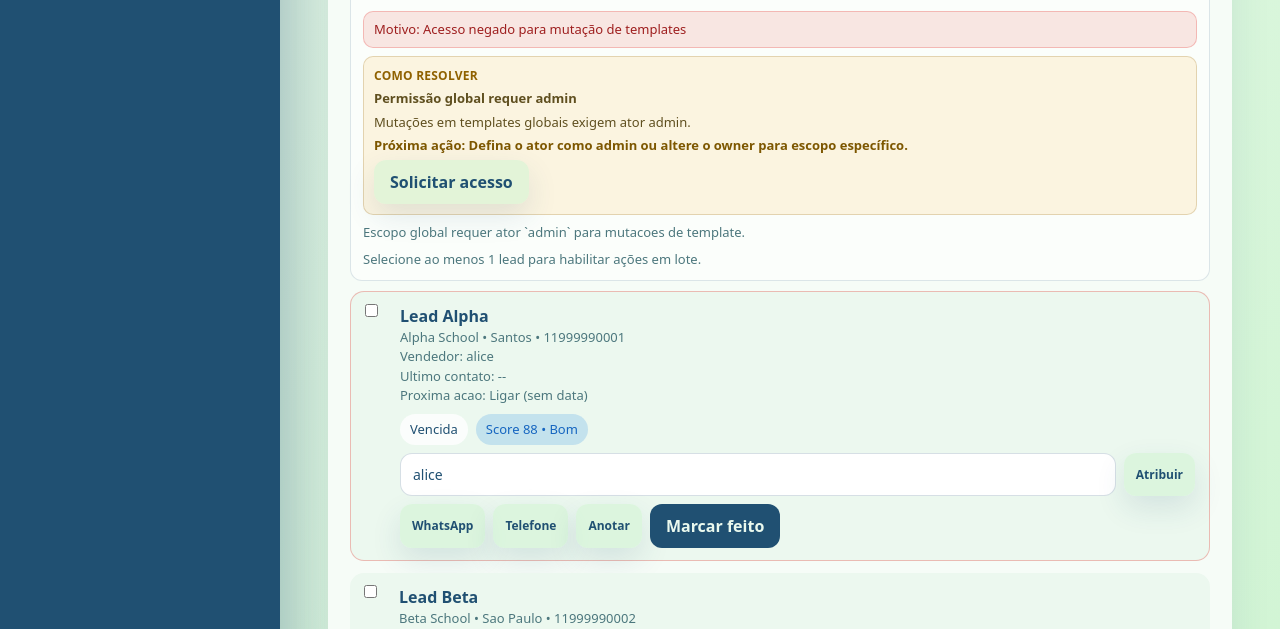
Test: SDR page › sends batch schedule action request with next action fields
The width and height of the screenshot is (1280, 629).
(page scrolled)
Expected: the text "Lead Alpha" is shown, [400,304,489,326]
Expected: the text "Lead Beta" is shown, [399,586,478,608]
Click the checkbox named "Selecionar lead 1".
click(372, 310)  # box [365,304,378,316]
(page scrolled)
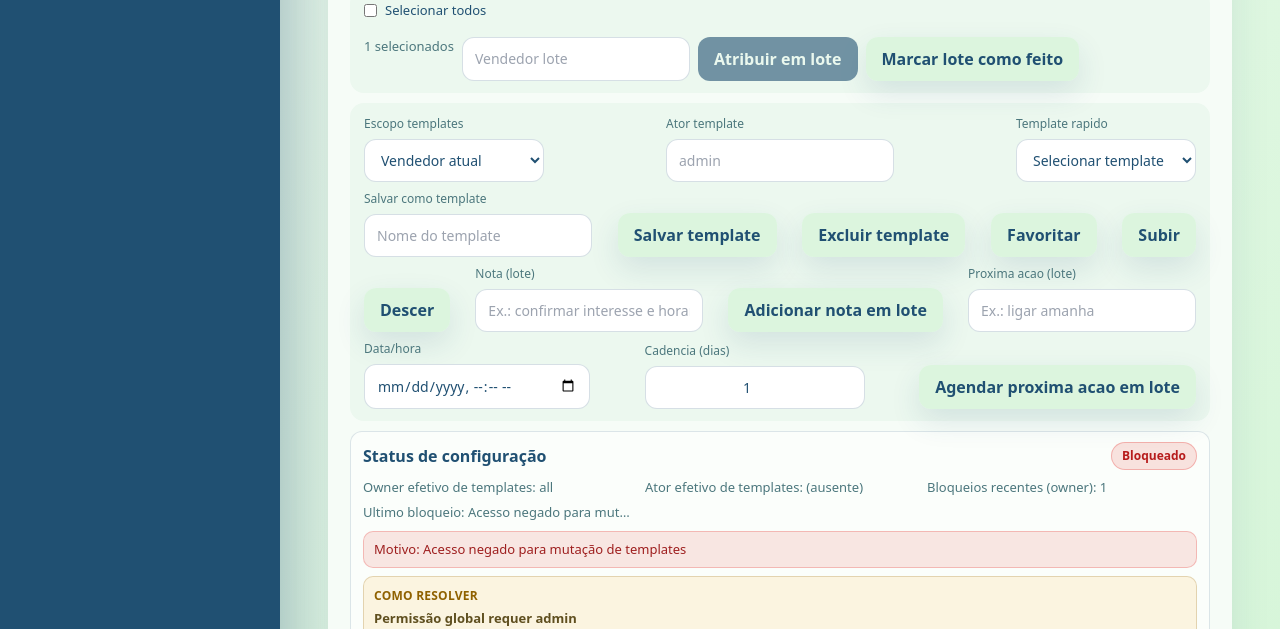
Type "Enviar proposta personalizada" into the field with placeholder "Ex.: ligar amanha".
click(1082, 310); type("Enviar proposta personalizada")  # box [968,288,1196,332]
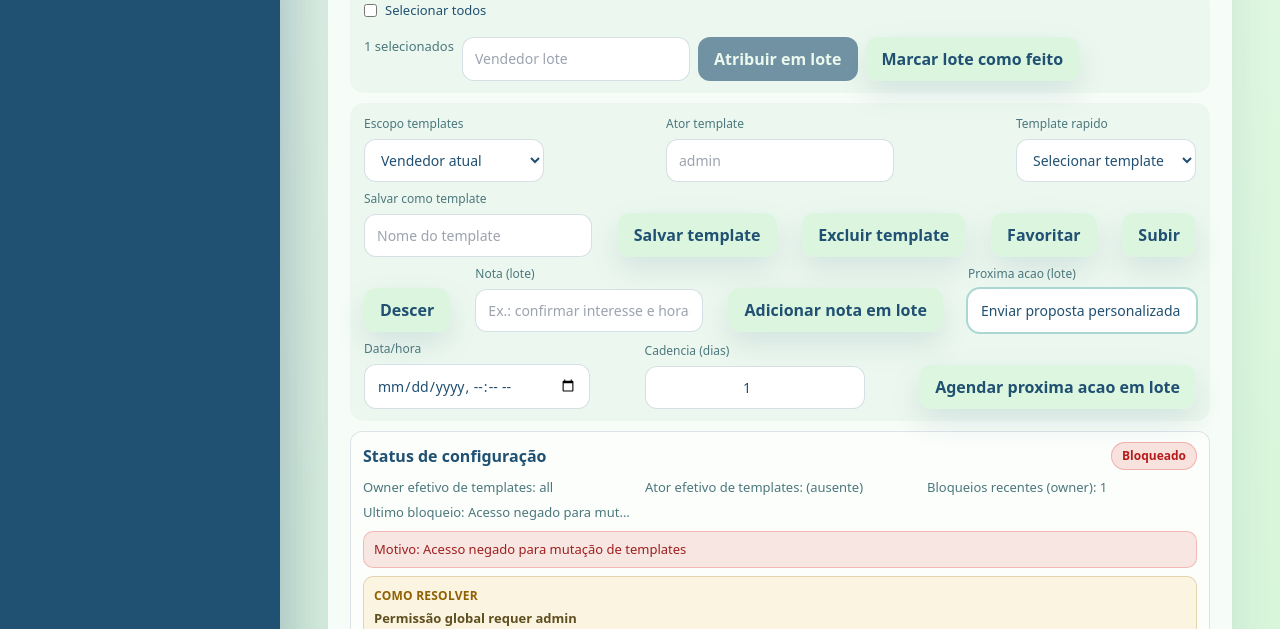
Type "2026-03-03T10:30" into the field labelled "Data/hora".
click(477, 386); type("2026-03-03T10:30")  # box [364,364,590,408]
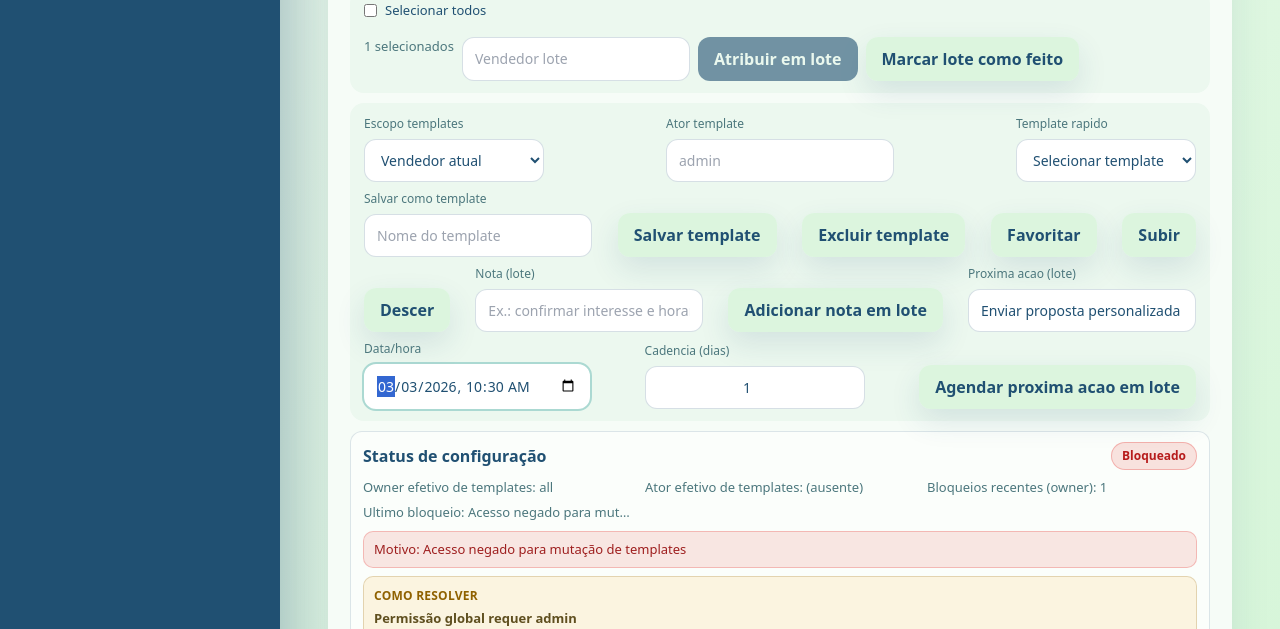
Replace the text in the number field labelled "Cadencia (dias)" with "3" at x=755, y=387, box [645,366,865,408]
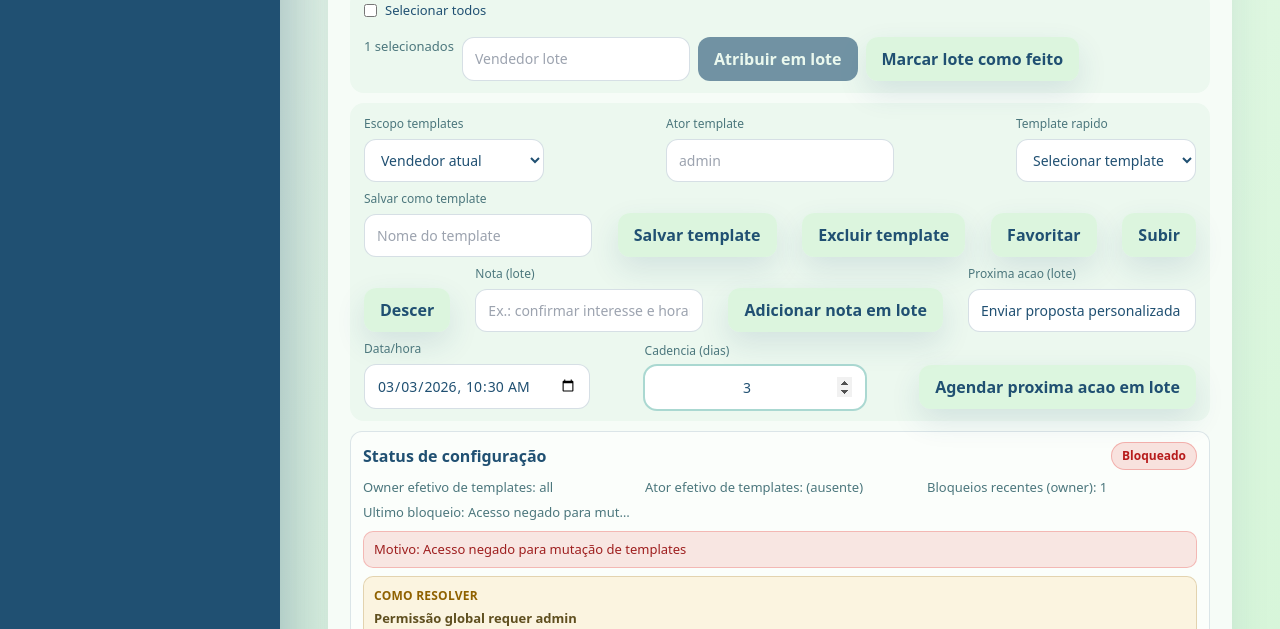
Click the button "Agendar proxima acao em lote".
click(1058, 386)  # box [919,364,1196,408]
(page scrolled)
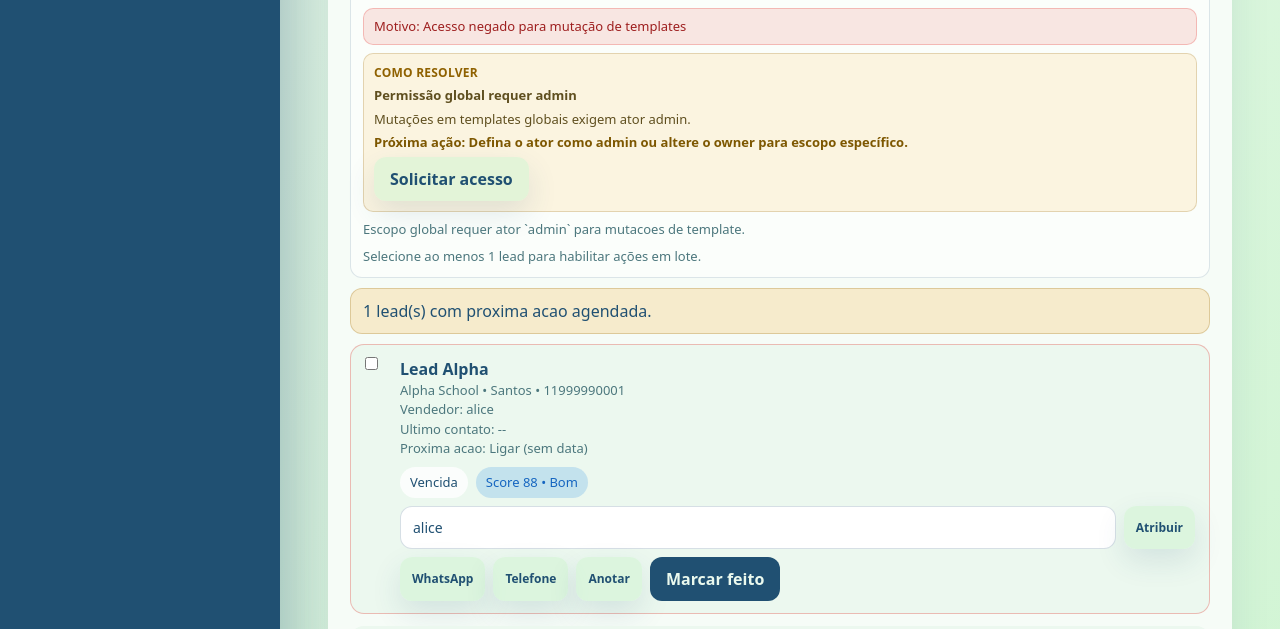
Result: the text "1 lead(s) com proxima acao agendada." is shown at [350,288,1210,334]
